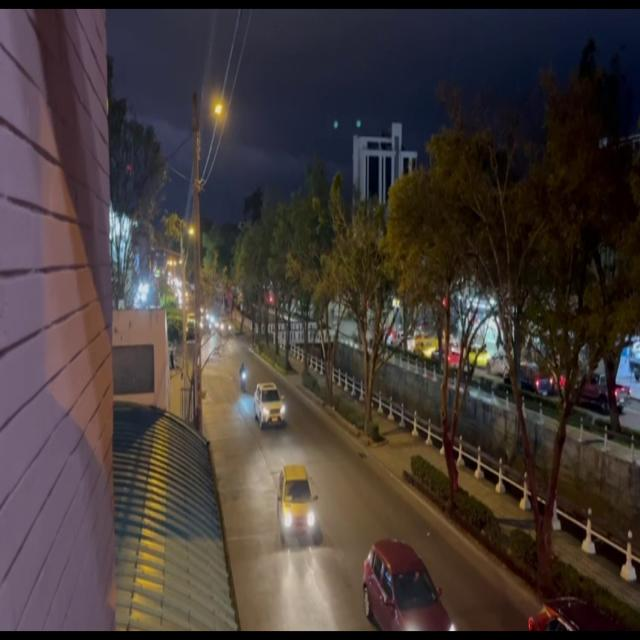MOTORCYCLE: (238, 360, 248, 393)
SUV: (257, 384, 287, 428)
